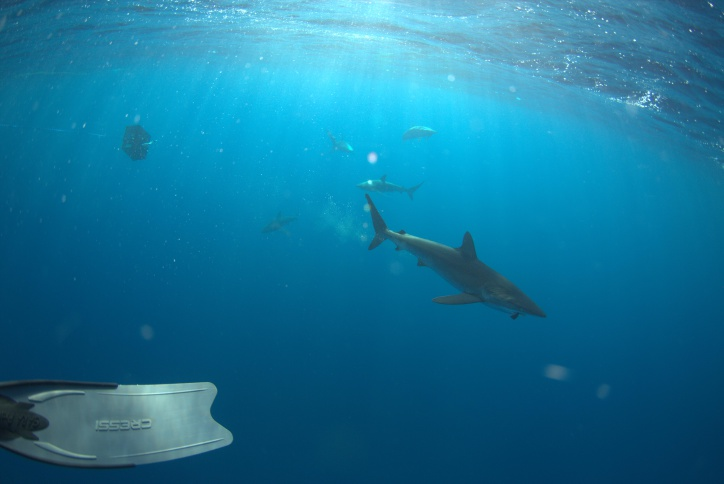Sedoso: (348, 181, 556, 339)
